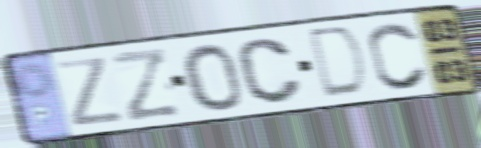C: (235, 36, 305, 107), (366, 20, 431, 92)
D: (308, 23, 370, 102)
O: (179, 41, 246, 113)
Z: (108, 45, 184, 126), (54, 54, 128, 130)
